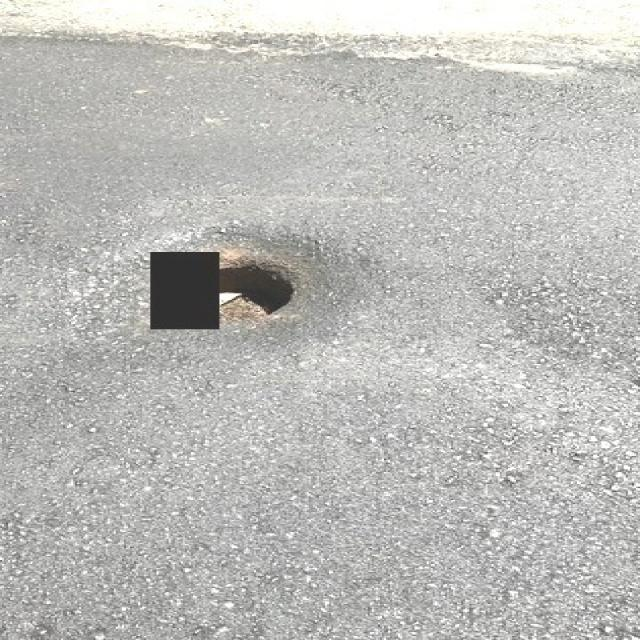road-pothole: (212, 245, 305, 329)
